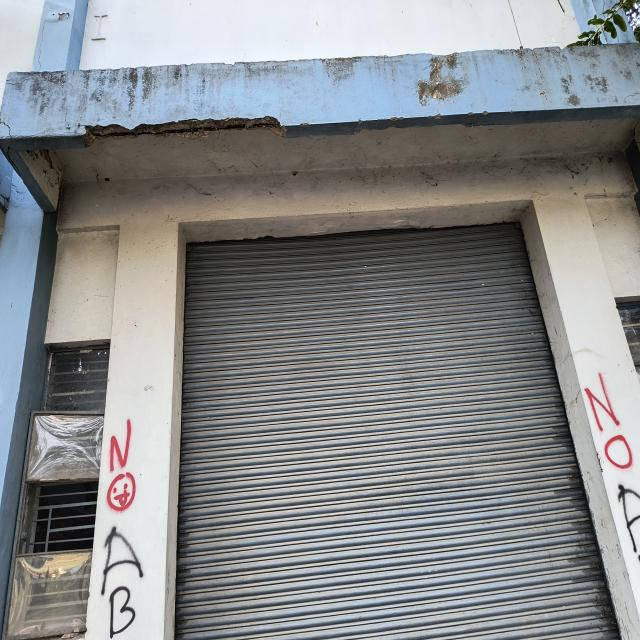Broken window pane: (0, 345, 111, 640)
Crack: (6, 145, 22, 180), (37, 19, 45, 72), (0, 121, 13, 146)
Graffiti: (584, 371, 640, 568), (101, 417, 144, 640)
Paint Peeling: (20, 150, 62, 208)
Scaling: (46, 5, 73, 23), (6, 77, 32, 86)
Spalling: (82, 116, 286, 147)
pollution -moisture induced blackening: (15, 64, 189, 122), (512, 42, 640, 105), (417, 53, 466, 106), (322, 58, 362, 82)
